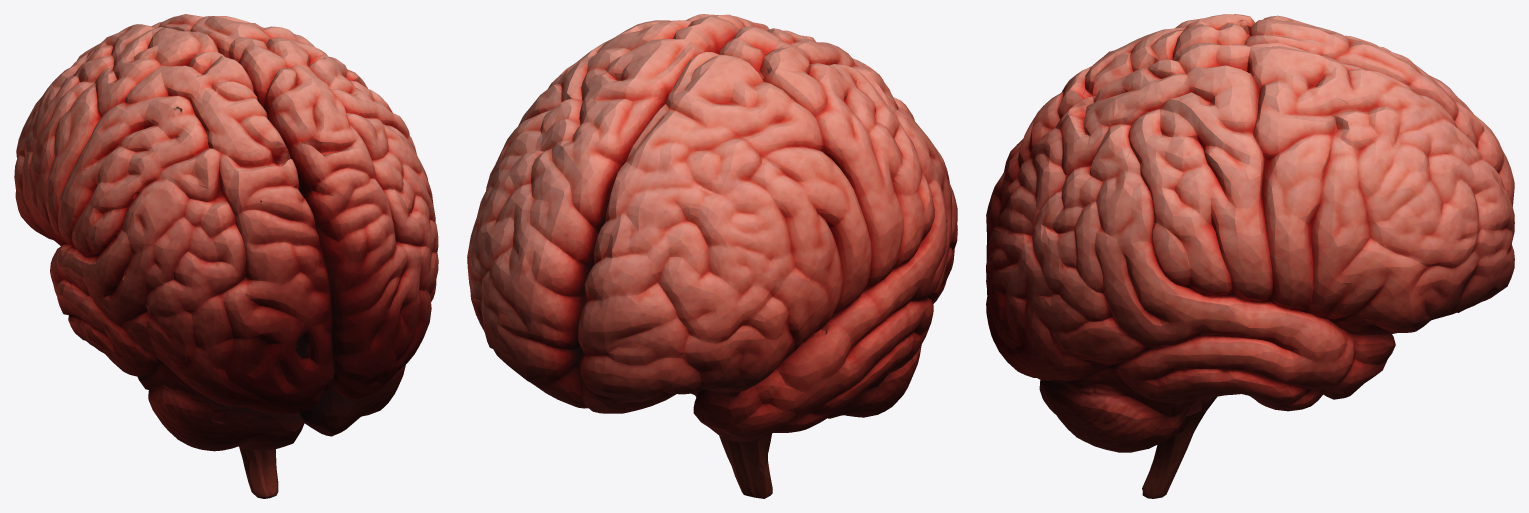
The model's file is brain.glb.
3 views of the same model, side by side, from view 1: azimuth 30°, elevation 25°; view 2: azimuth 150°, elevation 25°; view 3: azimuth 270°, elevation 25° (orthographic). The views are drawn at different scales.
Parts seen in each view (by area): view 1: world; view 2: world; view 3: world.
Part boxes in pixels (x1,y1,x2,y2): world: [14, 14, 438, 498]; world: [467, 14, 957, 498]; world: [986, 14, 1514, 498].
Bounding box in the file's own units: 0.773 × 0.9598 × 0.9984.
1 material, 1 textured.
